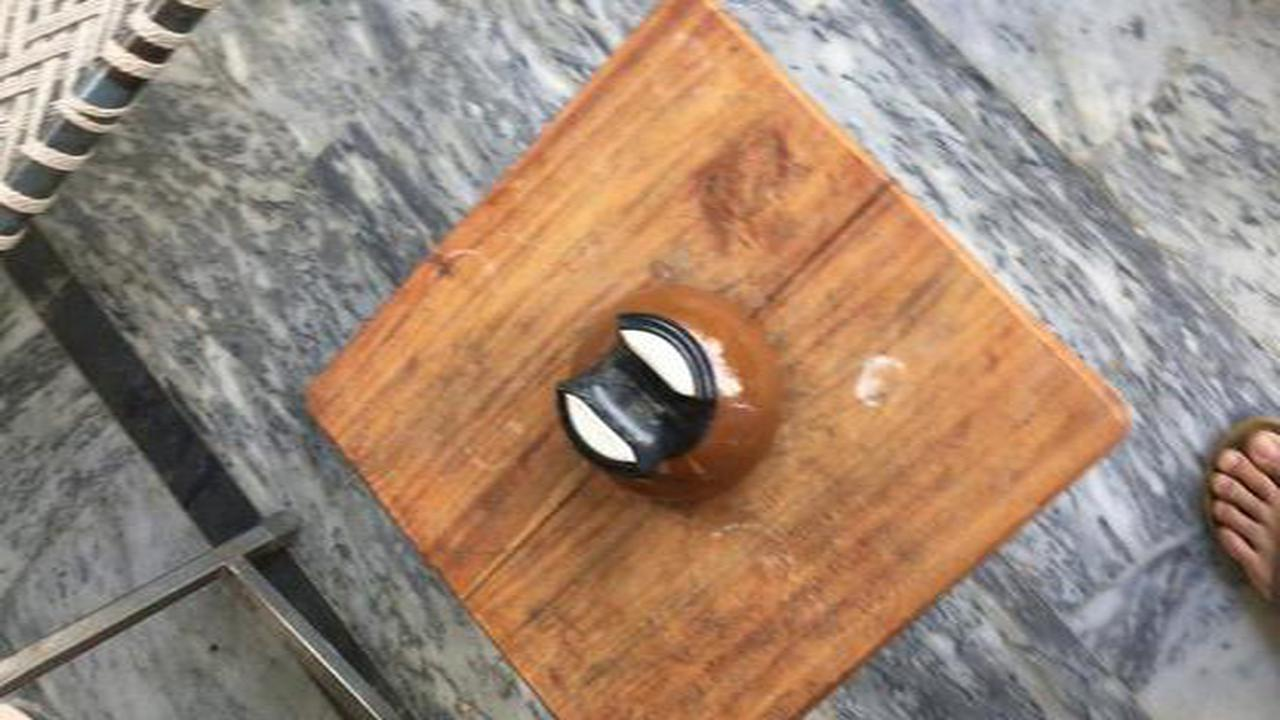insulator_pin: (524, 264, 813, 527)
